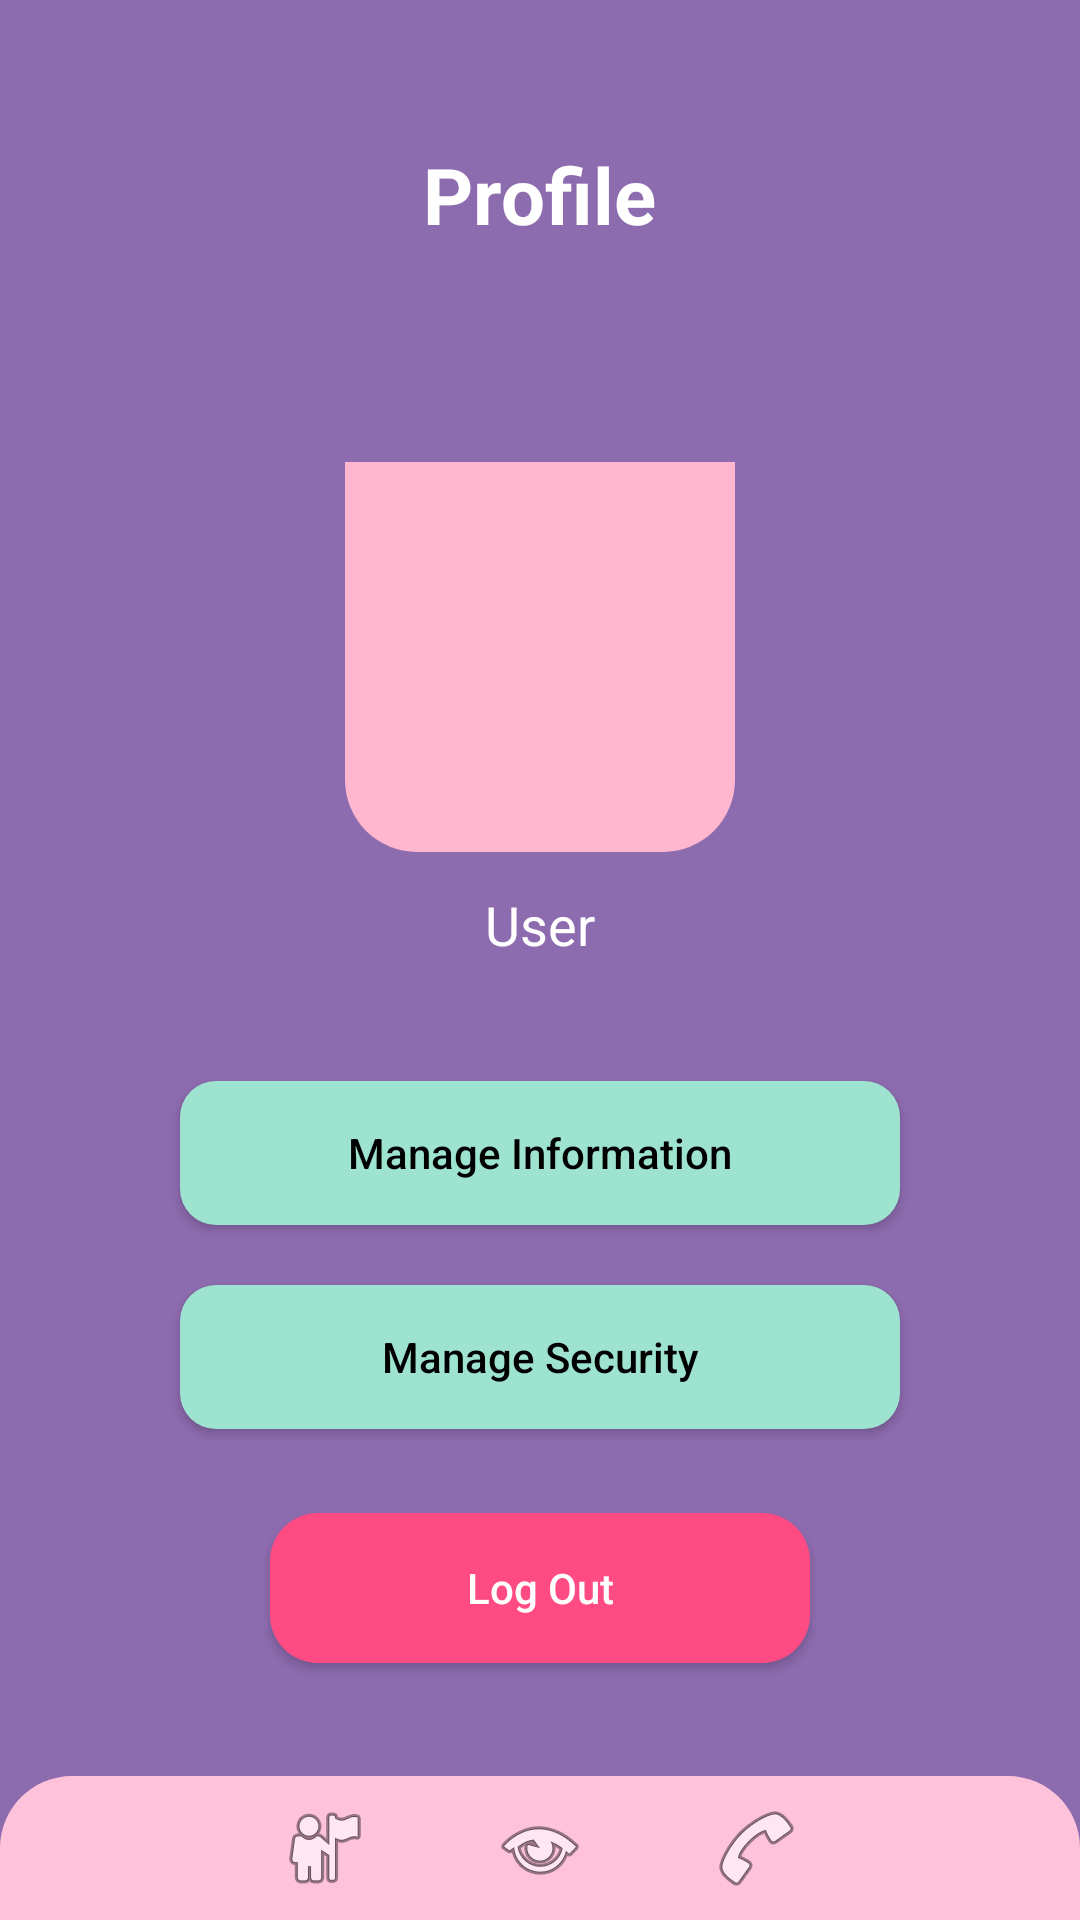

Icon bounding boxes for this 1080x1920 phone screenshot, format {"x1": x1, "y1": y1, "x2": x2, "y2": y2}:
Contacts: {"x1": 719, "y1": 1811, "x2": 794, "y2": 1886}
Profile: {"x1": 289, "y1": 1812, "x2": 361, "y2": 1884}
